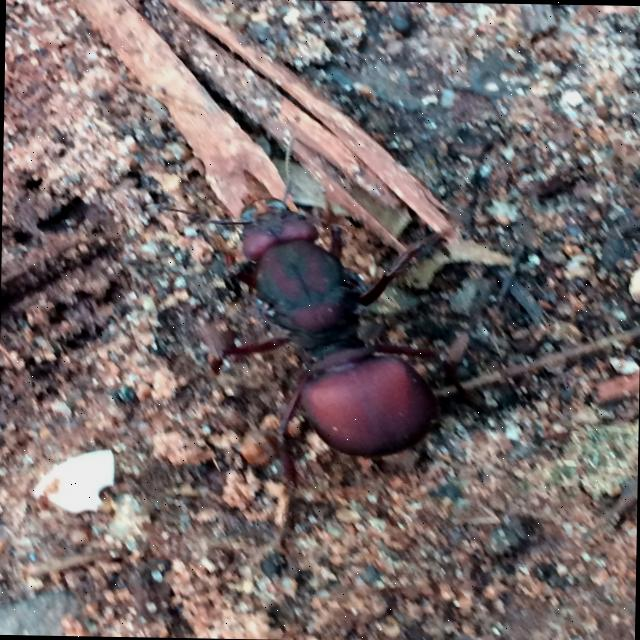Alive-Female-Dealate: (142, 131, 509, 561)
